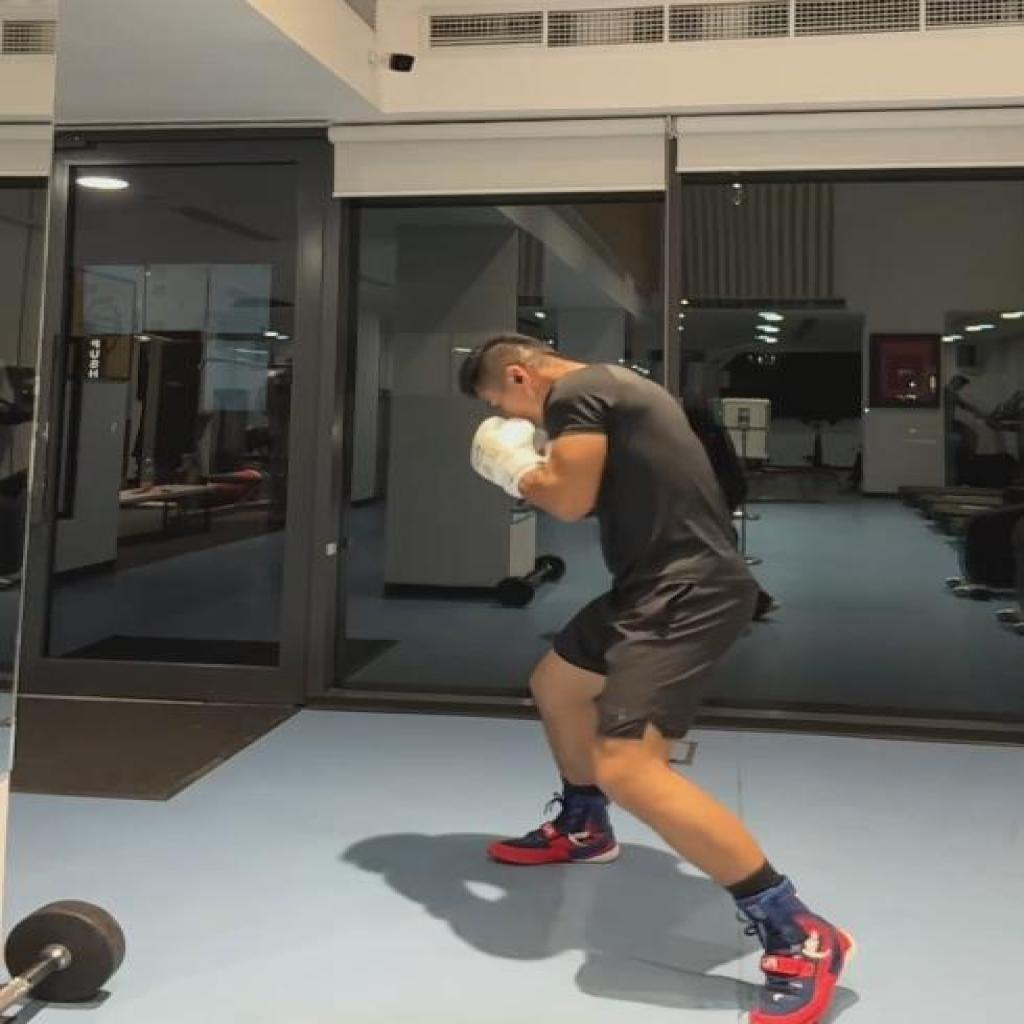no punch: (449, 334, 863, 1024)
